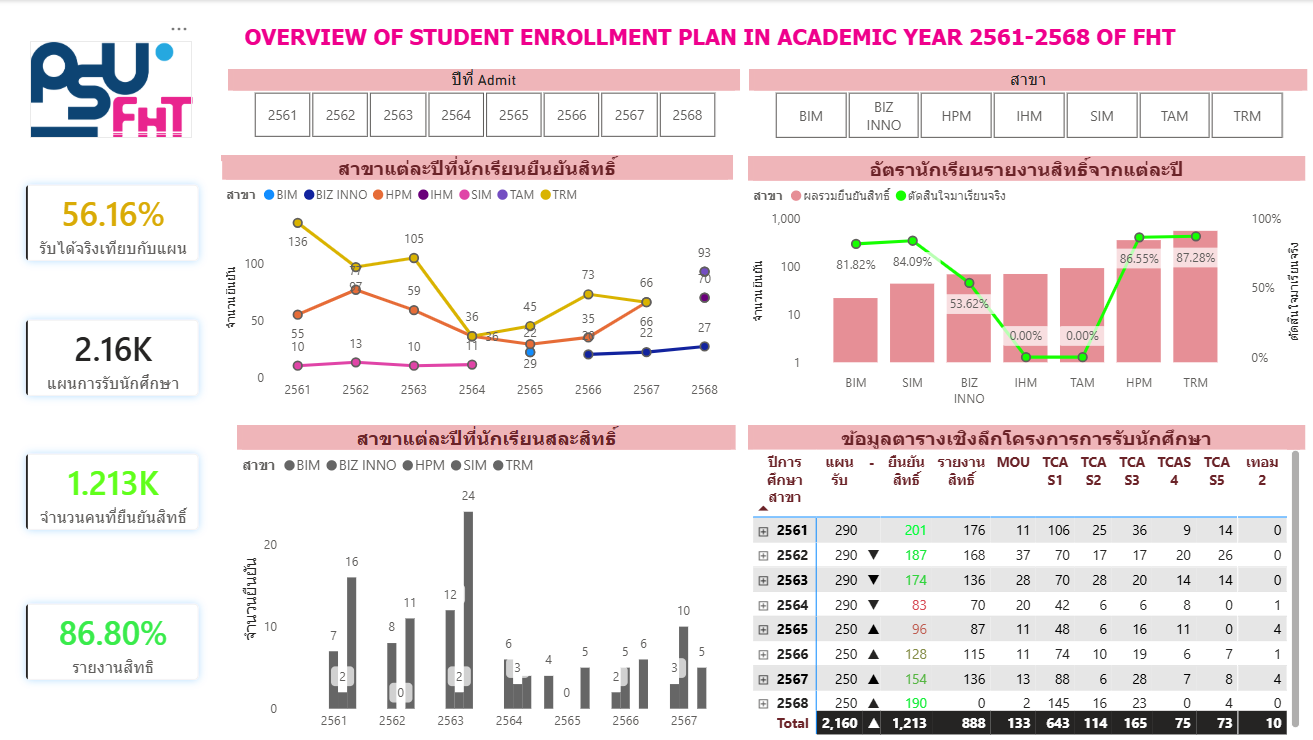

The page's visual inventory and layout, read from the dashboard file:
{"tool":"powerbi","page":{"name":"Plan enroll","canvas":[1280,720],"ordinal":1},"visuals":[{"type":"image","box":[29.8,39.4,158,95],"z":0},{"type":"textbox","box":[215.8,17.9,944.8,42.1],"z":1000},{"type":"cardVisual","fields":{"Data":["Sum(Student Admission Plan.Plan)"]},"box":[-2.2,282.7,224.5,130.9],"z":2000},{"type":"slicer","title":"ปีที่การศึกษาแรก","fields":{"Values":["tYears.year"]},"box":[223,67.2,497.9,73.4],"z":3000},{"type":"slicer","title":"สาขา","fields":{"Values":["tMajor.base_major"]},"box":[729,67,543,74],"z":4000},{"type":"cardVisual","fields":{"Data":["Sum(Student Admission Plan.confirmed)"]},"box":[-2.2,413.6,224.5,130.9],"z":5000},{"type":"lineChart","title":"สาขาแต่ละปีที่นักเรียนยืนยันสิทธิ์","fields":{"Category":["tYears.year"],"Y":["Sum(Student Admission Plan.confirmed)"],"Series":["tMajor.base_major"]},"box":[216,151,498,246],"z":6000},{"type":"lineClusteredColumnComboChart","title":"สาขาแต่ละปีที่นักเรียนสละสิทธิ์","fields":{"Category":["tYears.year"],"Series":["tMajor.base_major"],"Y":["DAX.waives"]},"box":[231.7,413.6,485.2,306],"z":7000},{"type":"cardVisual","fields":{"Data":["DAX.Yield Rate"]},"box":[-2.2,559,224.5,130.9],"z":8000},{"type":"pivotTable","title":"ข้อมูลตารางเชิงลึกโครงการการรับนักศึกษา","fields":{"Values":["Sum(Student Admission Plan.Plan)","DAX.YoY Confirmed Icon","DAX.จำนวนคนที่ยืนยันสิทธิ์","Sum(Student Admission Plan.registered)","Sum(Student Admission Plan.MOU)","Sum(Student Admission Plan.TCAS1)","Sum(Student Admission Plan.TCAS2)","Sum(Student Admission Plan.TCAS3)","Sum(Student Admission Plan.TCAS4)","Sum(Student Admission Plan.TCAS5)","Sum(Student Admission Plan.เข้าเทอม 2)"],"Rows":["Student Admission Plan.academic year","Student Admission Plan.base_major"]},"box":[729,413.7,541.8,306.3],"z":9000},{"type":"cardVisual","fields":{"Data":["DAX.Acceptance Rate"]},"box":[-2.2,151.8,224.5,130.9],"z":10000},{"type":"lineStackedColumnComboChart","title":"อัตรานักเรียนรายงานสิทธิ์ตามสาขา","fields":{"Y":["Sum(Student Admission Plan.confirmed)"],"Y2":["DAX.Yield Rate"],"Category":["tMajor.base_major"]},"box":[729,151.3,541.8,251.6],"z":11000}]}

Visuals, with their boxes in screenshot pixels (x1, y1, x2, y2), scaled from the page's 1280x720 canvas onto the 1313x740 screenshot:
image: (31, 40, 193, 138)
textbox: (221, 18, 1191, 62)
cardVisual - Sum(Student Admission Plan.Plan): (0, 291, 228, 425)
"ปีที่การศึกษาแรก" slicer: (229, 69, 739, 145)
"สาขา" slicer: (748, 69, 1305, 145)
cardVisual - Sum(Student Admission Plan.confirmed): (0, 425, 228, 560)
"สาขาแต่ละปีที่นักเรียนยืนยันสิทธิ์" lineChart: (222, 155, 732, 408)
"สาขาแต่ละปีที่นักเรียนสละสิทธิ์" lineClusteredColumnComboChart: (238, 425, 735, 739)
cardVisual - DAX.Yield Rate: (0, 575, 228, 709)
"ข้อมูลตารางเชิงลึกโครงการการรับนักศึกษา" pivotTable: (748, 425, 1304, 739)
cardVisual - DAX.Acceptance Rate: (0, 156, 228, 291)
"อัตรานักเรียนรายงานสิทธิ์ตามสาขา" lineStackedColumnComboChart: (748, 156, 1304, 414)
